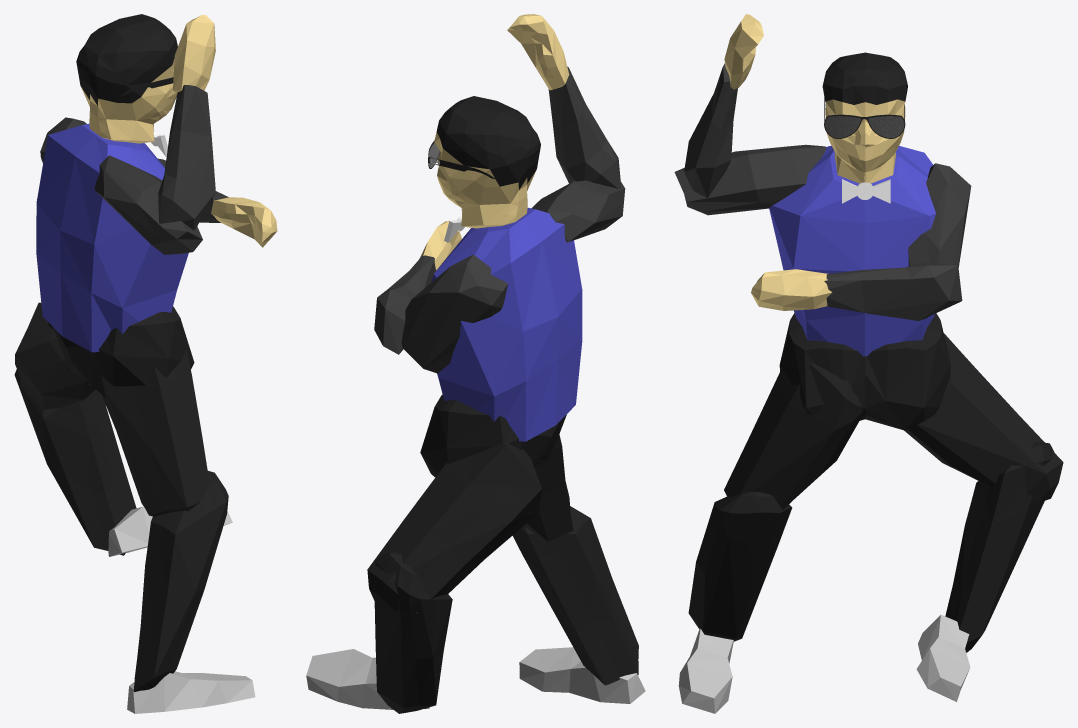
The model's file is avatar.dae.
3 renders of one model, left to right at view 1: azimuth 30°, elevation 25°; view 2: azimuth 150°, elevation 25°; view 3: azimuth 270°, elevation 25°, orthographic. The views are drawn at different scales.
Parts seen in each view (by area): view 1: SketchUp (×15); view 2: SketchUp (×16); view 3: SketchUp (×19).
Boxes of the visible parts, x1,y1,x2,y2 form: SketchUp (×15): [14, 14, 277, 713]; SketchUp (×16): [306, 14, 645, 713]; SketchUp (×19): [674, 14, 1063, 713].
Size of the model in its own units: 25.32 by 38.32 by 74.17.
